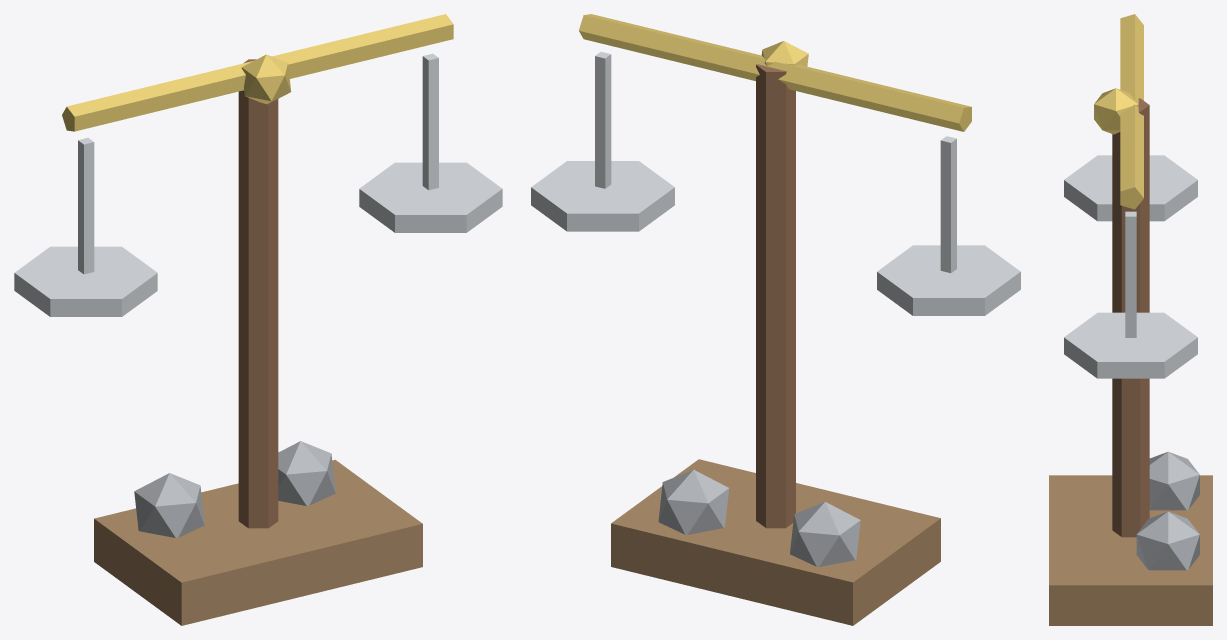
The model's file is market_scale.glb.
3 views of the same model, side by side, from view 1: azimuth 30°, elevation 25°; view 2: azimuth 150°, elevation 25°; view 3: azimuth 270°, elevation 25° (orthographic). The views are drawn at different scales.
Visible parts, largest first — view 1: base.004, post, beam, pan_1, pan_0, weight_0, weight_1, pivot.001, chain_0_1, chain_1_1, chain_1_0, chain_0_0; view 2: base.004, post, beam, pan_1, pan_0, weight_1, weight_0, chain_0_1, chain_1_1, chain_0_0, chain_1_0, pivot.001; view 3: base.004, post, pan_1, pan_0, beam, weight_1, weight_0, pivot.001, chain_1_1, chain_1_0.
Part boxes in pixels (x1,y1,x2,y2): base.004: (94, 459, 422, 625); post: (238, 59, 278, 528); beam: (62, 14, 453, 131); pan_1: (359, 162, 502, 232); pan_0: (14, 246, 157, 316); weight_0: (134, 473, 204, 537); weight_1: (278, 441, 335, 505); pivot.001: (241, 54, 291, 104); chain_0_1: (78, 138, 94, 209); chain_1_1: (422, 53, 438, 125); chain_1_0: (422, 121, 438, 190); chain_0_0: (78, 205, 94, 274); base.004: (611, 459, 940, 625); post: (756, 64, 795, 528); beam: (579, 14, 971, 131); pan_1: (531, 161, 674, 231); pan_0: (877, 245, 1020, 315); weight_1: (658, 469, 729, 534); weight_0: (790, 502, 860, 566); chain_0_1: (940, 136, 956, 207); chain_1_1: (595, 52, 611, 123); chain_0_0: (940, 204, 956, 272); chain_1_0: (595, 119, 611, 188); pivot.001: (761, 41, 808, 66); base.004: (1049, 475, 1212, 625); post: (1112, 98, 1149, 537); pan_1: (1064, 312, 1197, 378); pan_0: (1064, 155, 1197, 221); beam: (1120, 14, 1143, 209); weight_1: (1136, 511, 1199, 570); weight_0: (1149, 451, 1199, 510); pivot.001: (1094, 88, 1138, 134); chain_1_1: (1125, 211, 1136, 277); chain_1_0: (1125, 277, 1136, 337).
Bounding box in the file's own units: 1.31 × 1.43 × 0.44.
